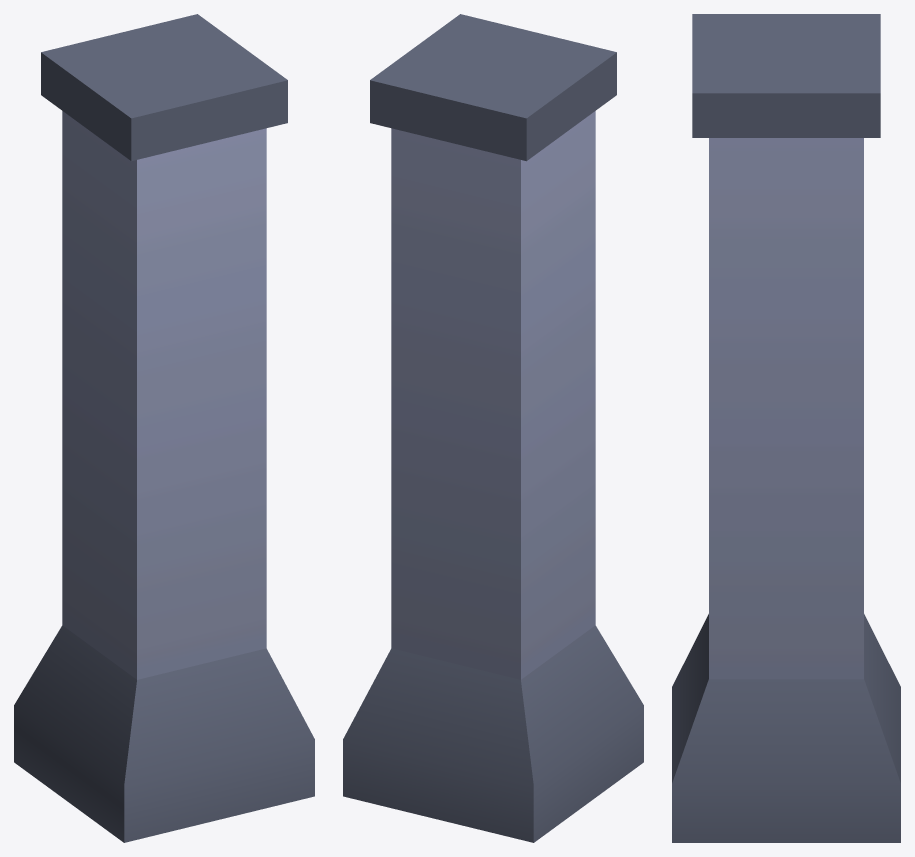
Rendered from bridge-pillar-wide.glb.
The picture shows the model from 3 angles, left to right: view 1: azimuth 30°, elevation 25°; view 2: azimuth 150°, elevation 25°; view 3: azimuth 270°, elevation 25°; orthographic projection. The views are drawn at different scales.
Parts seen in each view (by area): view 1: bridge-pillar-wide; view 2: bridge-pillar-wide; view 3: bridge-pillar-wide.
Part boxes in pixels (x1,y1,x2,y2): bridge-pillar-wide: (14, 14, 314, 842); bridge-pillar-wide: (343, 14, 643, 842); bridge-pillar-wide: (672, 14, 900, 842).
Size of the model in its own units: 0.14 by 0.5 by 0.14.
1 material, 1 textured.
